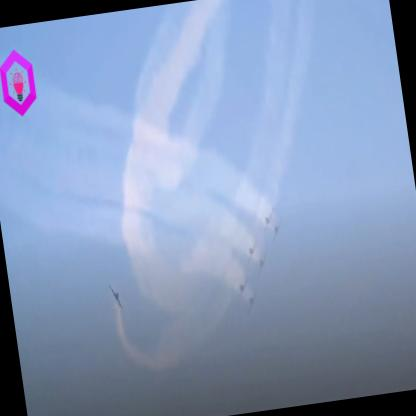plane: (98, 276, 130, 311)
